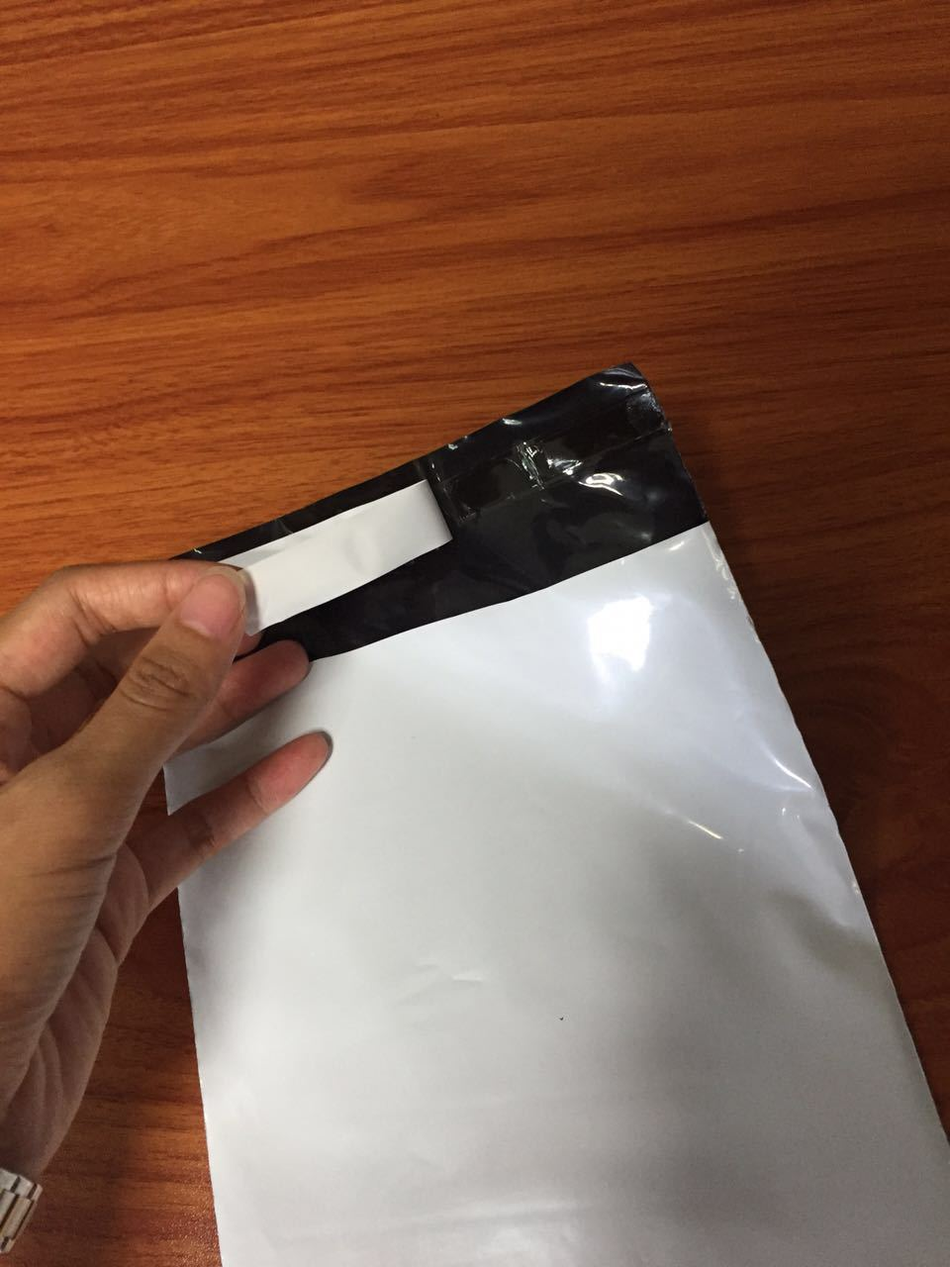塑料袋: (166, 524, 947, 1267)
